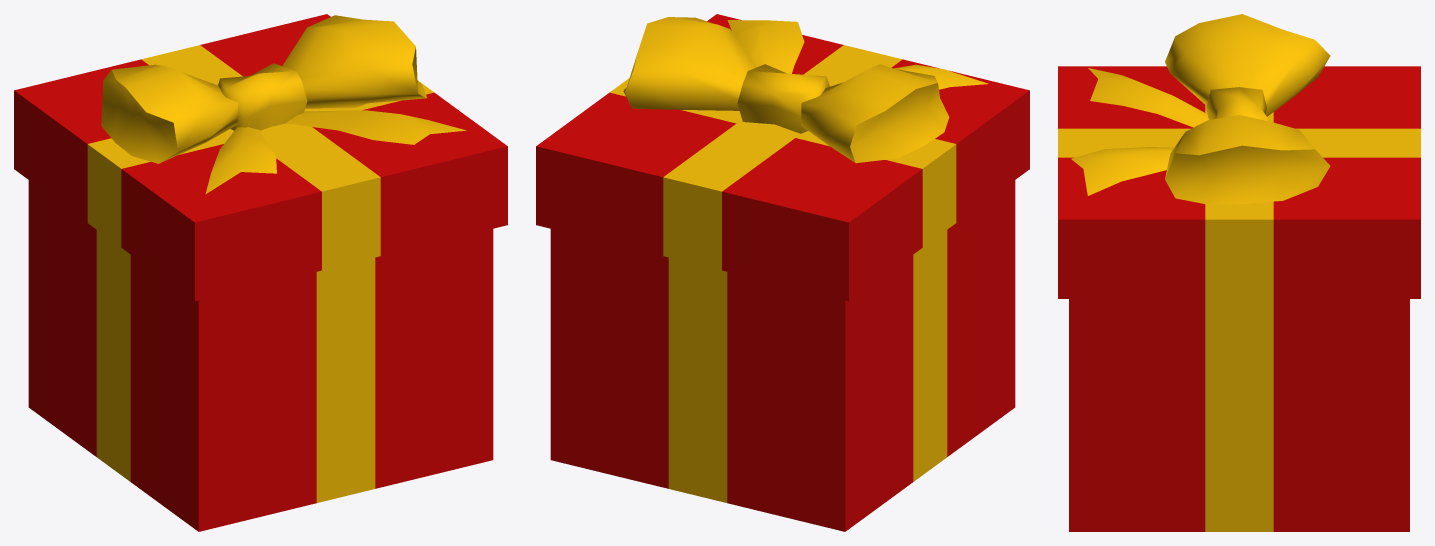
Rendered from gift.fbx.
3 views of the same model, side by side, from view 1: azimuth 30°, elevation 25°; view 2: azimuth 150°, elevation 25°; view 3: azimuth 270°, elevation 25° (orthographic).
Visible parts, largest first — view 1: gift; view 2: gift; view 3: gift.
Boxes of the visible parts, x1=… form: gift: x1=14, y1=14, x2=507, y2=531; gift: x1=536, y1=14, x2=1029, y2=531; gift: x1=1058, y1=14, x2=1420, y2=531.
Size of the model in its own units: 40.73 by 47.8 by 40.73.
Materials: 1 (1 with a texture image).
